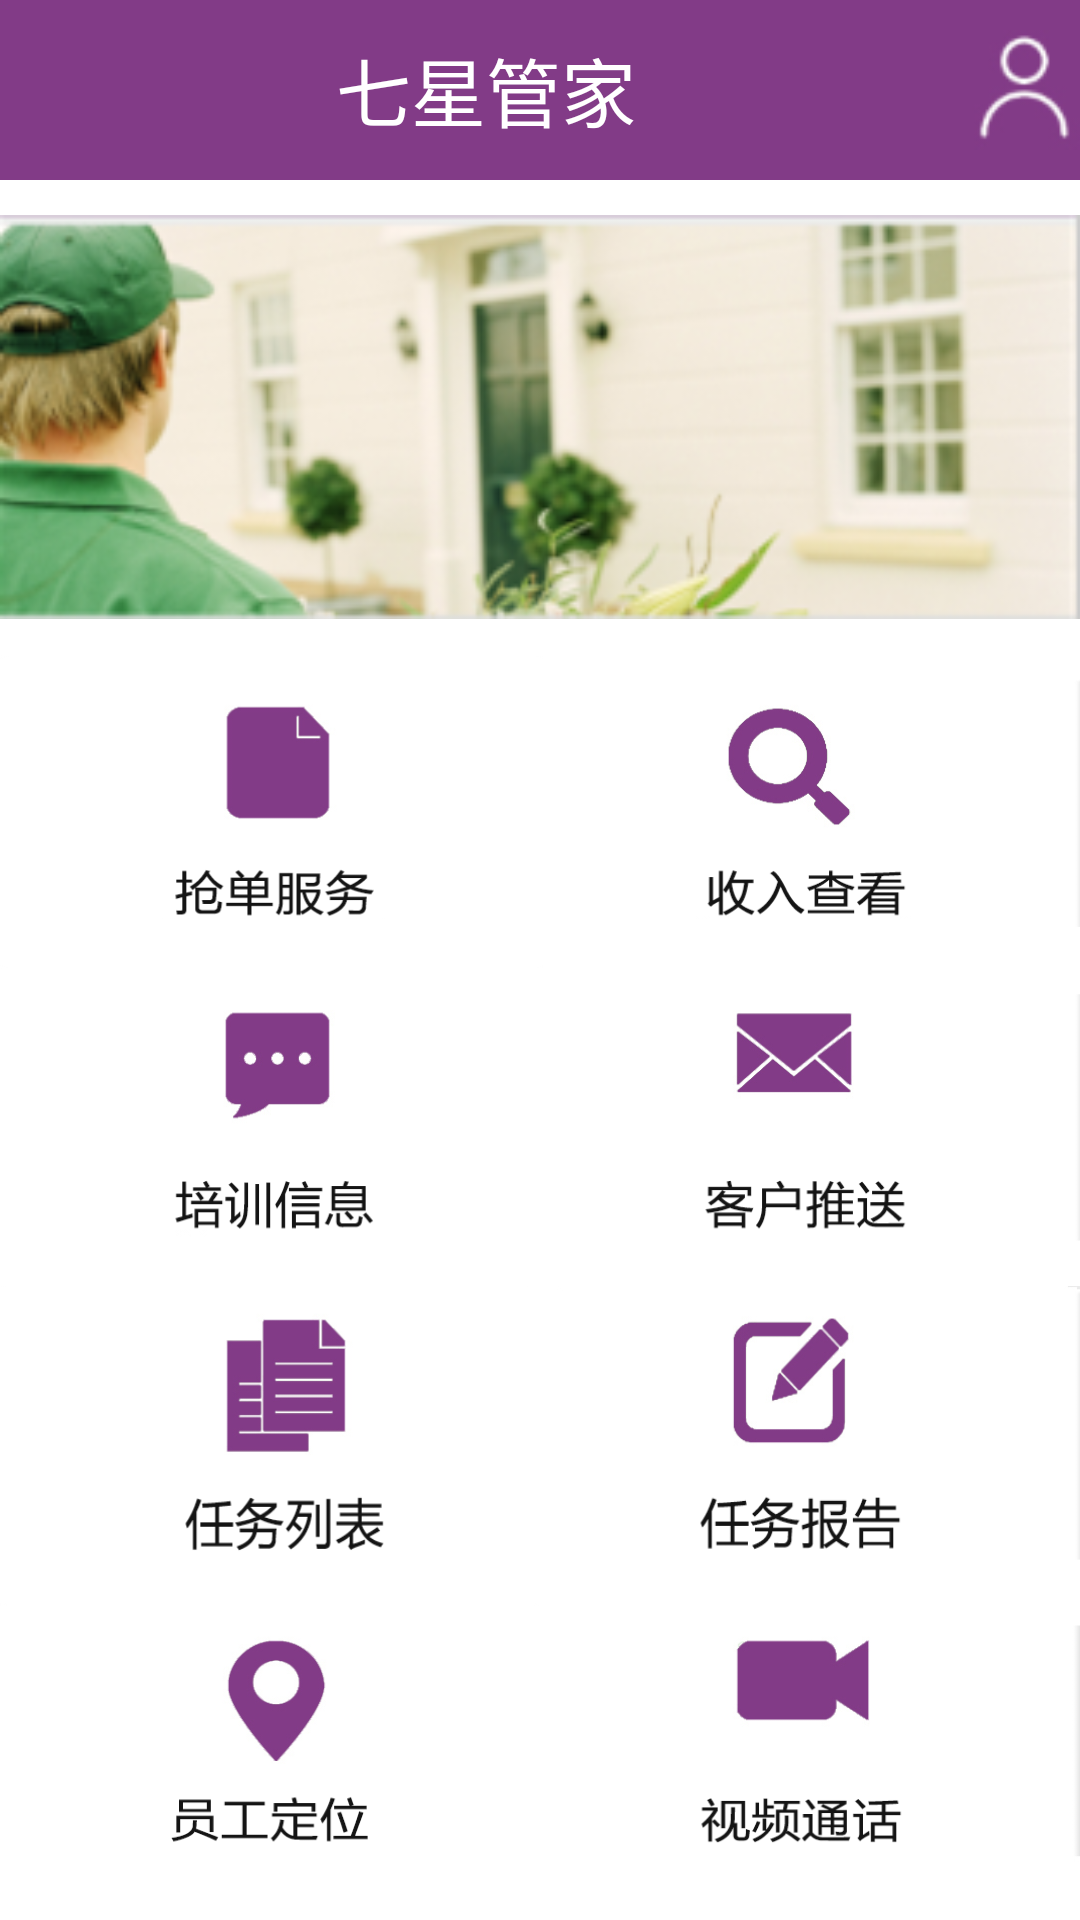

Screen size 1080px x 1920px. Icon name, then its box in pixels as (x1, y1, x2, y2):
person: (979, 35, 1069, 139)
